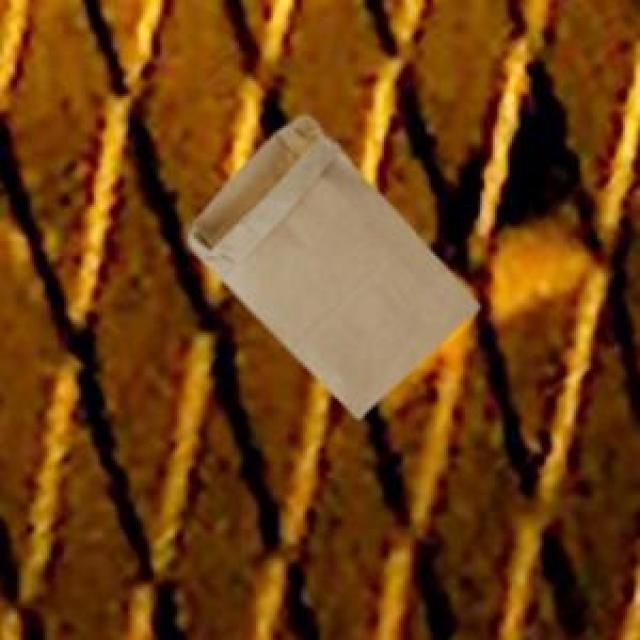paper: (186, 113, 474, 414)
